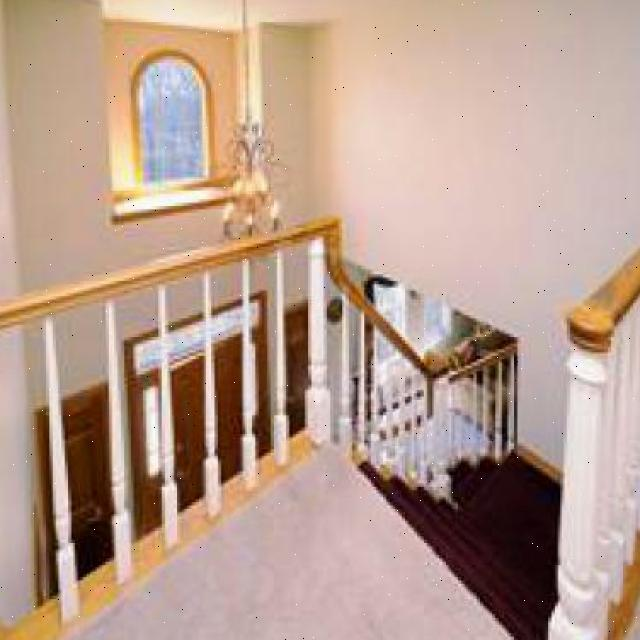stair: (315, 351, 574, 628)
